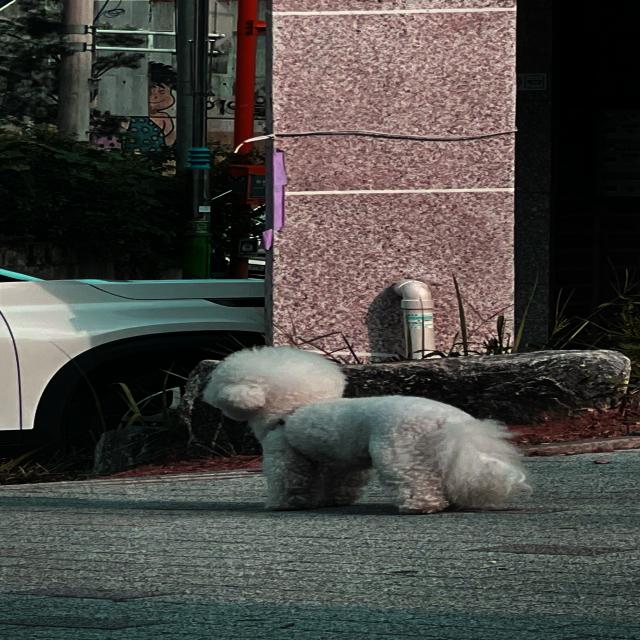Dog: (200, 345, 532, 515)
